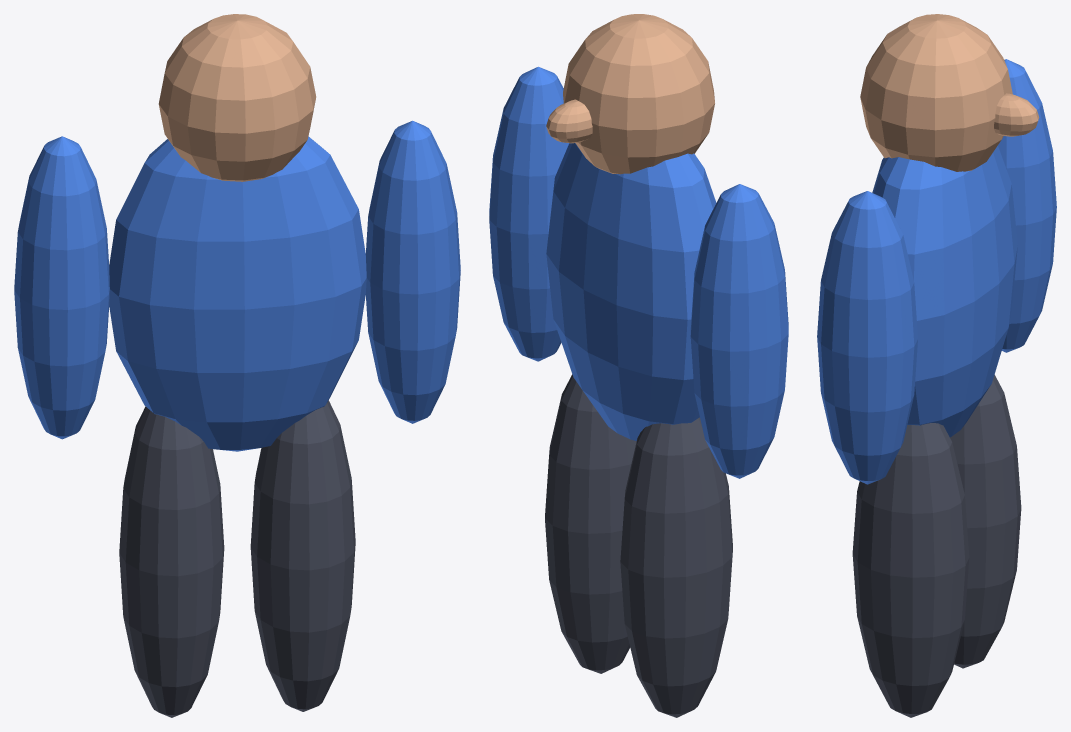
Rendered from avatar.glb.
3 views of the same model, side by side, from view 1: azimuth 30°, elevation 25°; view 2: azimuth 150°, elevation 25°; view 3: azimuth 270°, elevation 25° (orthographic). The views are drawn at different scales.
Visible parts, largest first — view 1: Torso, Leg.001, Leg, Arm.001, Arm, Head; view 2: Torso, Leg.001, Arm.001, Leg, Head, Arm, Nose; view 3: Torso, Leg, Arm, Head, Leg.001, Arm.001, Nose.
Boxes of the visible parts, x1,y1,x2,y2 form: Torso: (109, 136, 366, 451); Leg.001: (119, 406, 224, 717); Leg: (250, 400, 355, 711); Arm.001: (14, 136, 109, 439); Arm: (365, 120, 460, 423); Head: (158, 14, 316, 181); Torso: (546, 143, 716, 440); Leg.001: (620, 417, 732, 717); Arm.001: (690, 184, 788, 478); Leg: (545, 374, 636, 673); Head: (563, 14, 714, 174); Arm: (489, 66, 569, 361); Nose: (546, 99, 592, 143); Torso: (872, 145, 1017, 437); Leg: (852, 423, 969, 717); Arm: (817, 191, 917, 484); Head: (860, 14, 1012, 171); Leg.001: (950, 375, 1021, 668); Arm.001: (998, 59, 1056, 352); Nose: (994, 93, 1039, 136).
Bounding box in the file's own units: 0.9539 × 1.74 × 0.5622.
